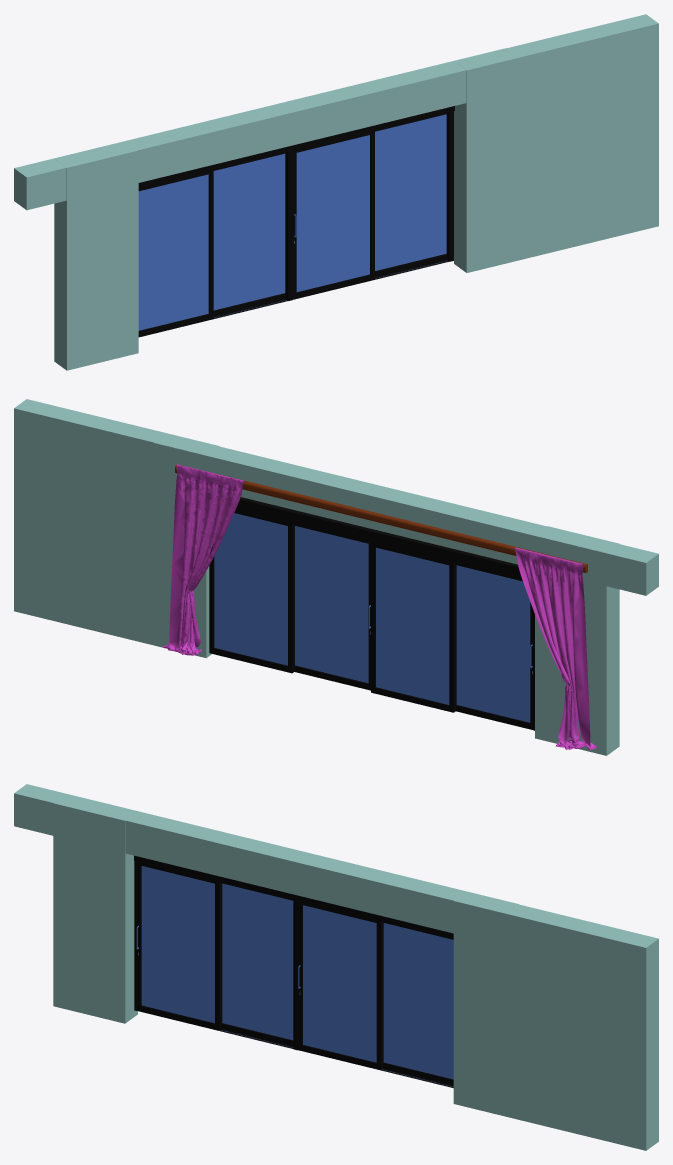
The model's file is homeWindow.FBX.
3 views of the same model, one above another, from view 1: azimuth 30°, elevation 25°; view 2: azimuth 150°, elevation 25°; view 3: azimuth 330°, elevation 25° (orthographic).
Visible parts, largest first — view 1: Line043, glass, Line044, fixture; view 2: Line043, glass, Line044, fixture, Cloth_Shap, Cloth_Shap001, Line2087; view 3: Line043, glass, Line044, fixture.
Boxes of the visible parts, x1,y1,x2,y2 form: Line043: (54,14,658,370); glass: (138,114,446,330); Line044: (14,48,506,210); fixture: (138,106,454,337); Line043: (14,399,619,755); glass: (214,513,530,722); Line044: (153,442,658,595); fixture: (209,497,534,730); Cloth_Shap: (515,547,597,750); Cloth_Shap001: (162,464,244,655); Line2087: (175,464,587,573); Line043: (53,794,658,1150); glass: (141,866,453,1079); Line044: (14,784,519,933); fixture: (134,855,453,1087).
Size of the model in its own units: 204 by 62.65 by 13.31.
